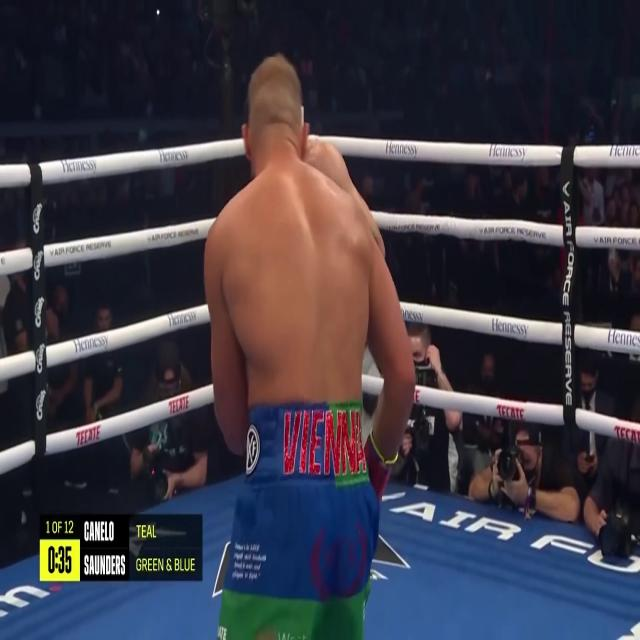boxer_1: (204, 54, 415, 461)
boxer_2: (303, 136, 385, 257)
